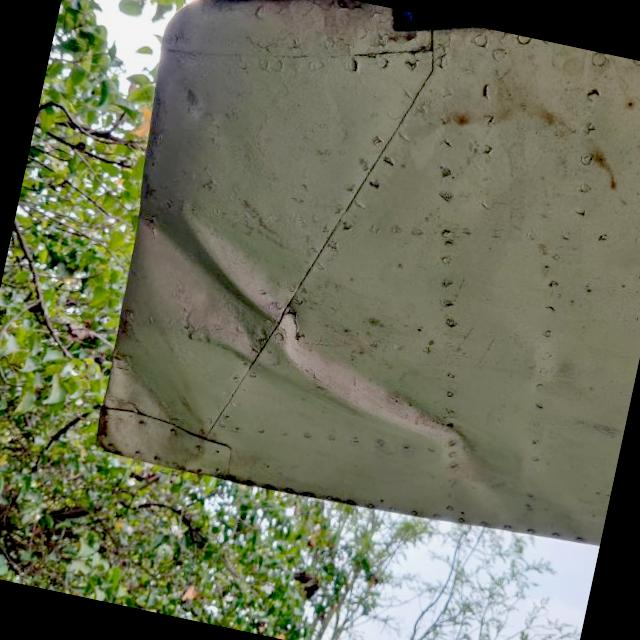crack: (272, 304, 318, 352)
dent: (98, 168, 526, 498), (82, 336, 234, 482)
